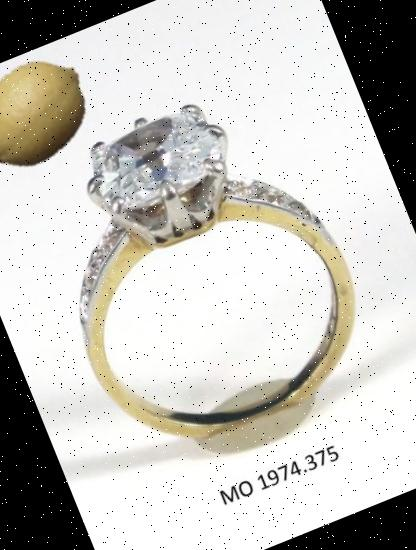Lemon: (0, 35, 111, 190)
